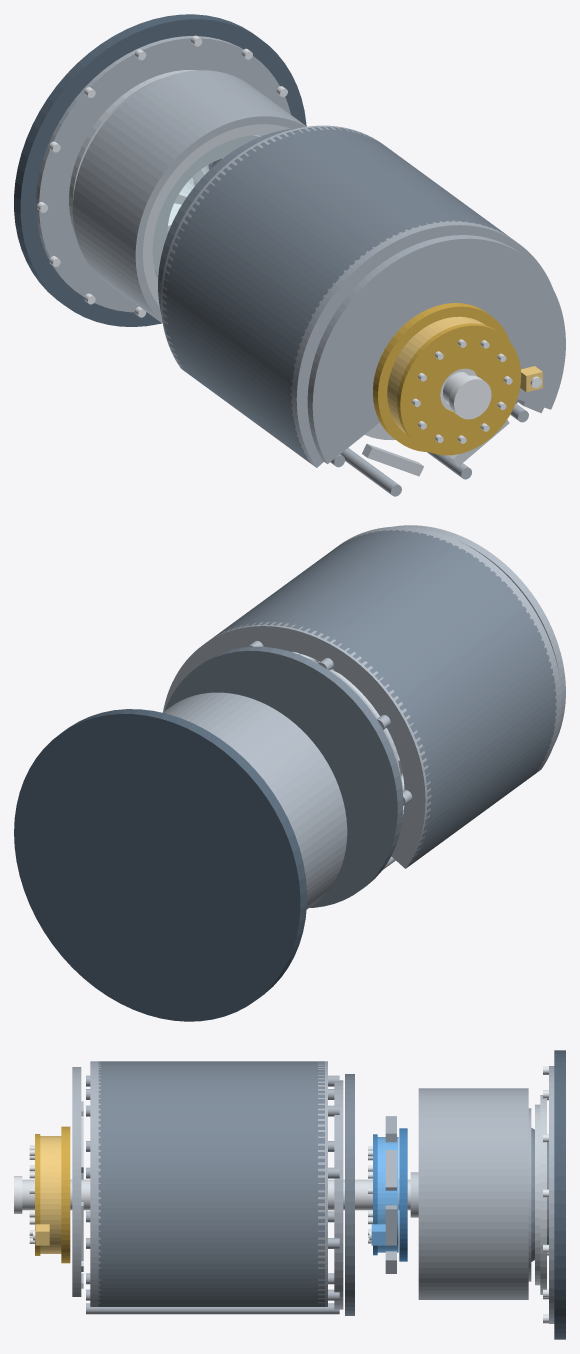
The model's file is HydroTwin_G1_Interactive.glb.
The picture shows the model from 3 angles, top to bottom: view 1: azimuth 30°, elevation 25°; view 2: azimuth 150°, elevation 25°; view 3: azimuth 270°, elevation 25°; orthographic projection. The views are drawn at different scales.
Visible parts, largest first — view 1: Generator__main_housing_cutaway, Generator__upper_support, Turbine__cutaway_casing, Unit_G1__foundation_top, Unit_G1__foundation, UGB__top_seal, Generator__upper_rim, UGB__mounting_support, Turbine__flange_2.47, Turbine__runner_top_shroud, UGB__bearing_housing, Generator__lower_rim (+5 smaller); view 2: Unit_G1__foundation, Generator__main_housing_cutaway, Generator__lower_frame, Turbine__cutaway_casing, Generator__lower_rim, Generator__upper_rim, Generator__upper_support; view 3: Generator__main_housing_cutaway, Turbine__cutaway_casing, Unit_G1__foundation, Generator__upper_rim, Generator__lower_frame, UGB__bearing_housing, Generator__upper_support, Generator__bottom_radial_plate, Generator__support_pillar_09, Shaft__central, Unit_G1__foundation_top, Generator__lower_rim (+12 smaller).
Part boxes in pixels (bbox=[...]): Generator__main_housing_cutaway: bbox=[162, 127, 508, 463]; Generator__upper_support: bbox=[307, 235, 565, 463]; Turbine__cutaway_casing: bbox=[72, 70, 306, 323]; Unit_G1__foundation_top: bbox=[36, 36, 290, 312]; Unit_G1__foundation: bbox=[14, 14, 306, 326]; UGB__top_seal: bbox=[397, 323, 521, 455]; Generator__upper_rim: bbox=[290, 220, 552, 467]; UGB__mounting_support: bbox=[373, 303, 509, 452]; Turbine__flange_2.47: bbox=[143, 124, 290, 307]; Turbine__runner_top_shroud: bbox=[152, 135, 261, 277]; UGB__bearing_housing: bbox=[387, 316, 485, 433]; Generator__lower_rim: bbox=[160, 125, 381, 369]; Unit_G1__foundation: bbox=[14, 709, 306, 1021]; Generator__main_housing_cutaway: bbox=[209, 530, 556, 867]; Generator__lower_frame: bbox=[165, 646, 403, 907]; Turbine__cutaway_casing: bbox=[162, 692, 347, 909]; Generator__lower_rim: bbox=[163, 622, 431, 868]; Generator__upper_rim: bbox=[339, 526, 561, 772]; Generator__upper_support: bbox=[394, 525, 565, 744]; Generator__main_housing_cutaway: bbox=[98, 1061, 324, 1306]; Turbine__cutaway_casing: bbox=[418, 1088, 528, 1299]; Unit_G1__foundation: bbox=[554, 1050, 565, 1339]; Generator__upper_rim: bbox=[90, 1061, 100, 1306]; Generator__lower_frame: bbox=[345, 1074, 354, 1315]; UGB__bearing_housing: bbox=[40, 1136, 61, 1253]; Generator__upper_support: bbox=[72, 1067, 81, 1296]; Generator__bottom_radial_plate: bbox=[334, 1080, 343, 1309]; Generator__support_pillar_09: bbox=[86, 1303, 339, 1314]; Shaft__central: bbox=[22, 1179, 410, 1210]; Unit_G1__foundation_top: bbox=[549, 1066, 554, 1323]; Generator__lower_rim: bbox=[318, 1061, 327, 1306].
Bounding box in the file's own units: 5.5 × 5.5 × 10.49.
